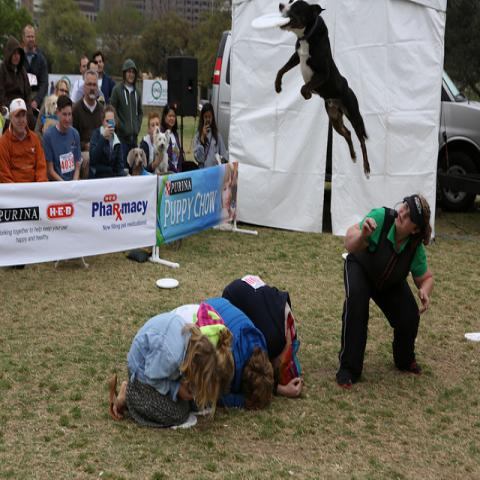car: (436, 70, 480, 211), (210, 34, 231, 162)
truck: (210, 31, 479, 216)
